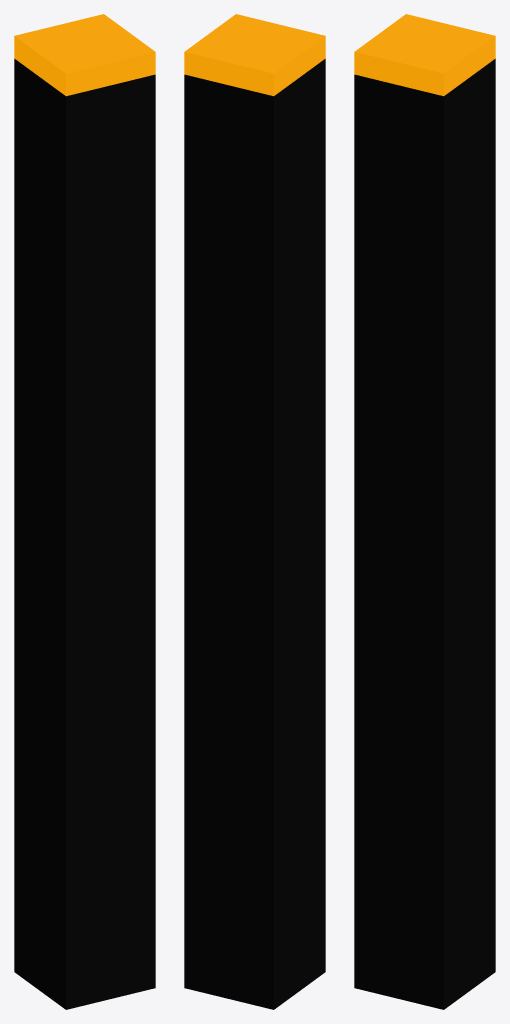
The model's file is Coolrod2.glb.
3 views of the same model, side by side, from view 1: azimuth 30°, elevation 25°; view 2: azimuth 150°, elevation 25°; view 3: azimuth 330°, elevation 25° (orthographic).
Visible parts, largest first — view 1: Cube; view 2: Cube; view 3: Cube.
Part boxes in pixels (x1,y1,x2,y2): Cube: [14, 14, 155, 1009]; Cube: [184, 14, 325, 1009]; Cube: [354, 14, 495, 1009].
Bounding box in the file's own units: 0.4 × 4 × 0.4.
